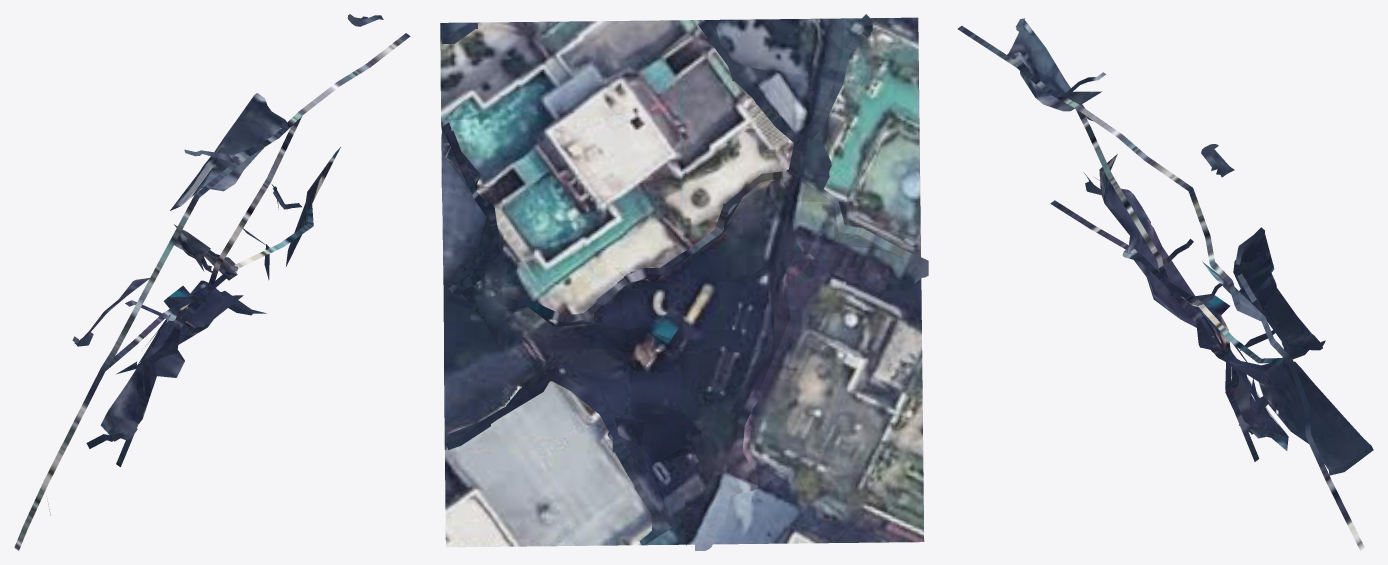
The picture shows the model from 3 angles, left to right: view 1: azimuth 30°, elevation 25°; view 2: azimuth 150°, elevation 25°; view 3: azimuth 270°, elevation 25°; orthographic projection. The views are drawn at different scales.
Bounding box in the file's own units: 38.36 × 36.73 × 32.37.
1 material, 1 textured.
